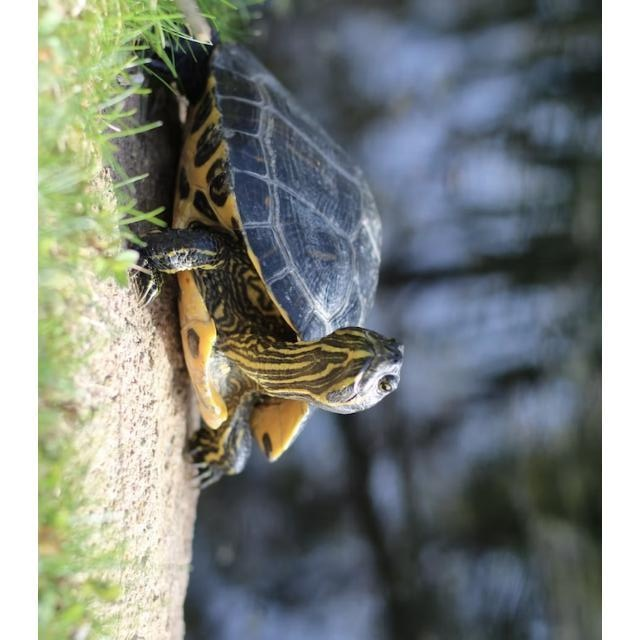turtle: (129, 40, 406, 491)
